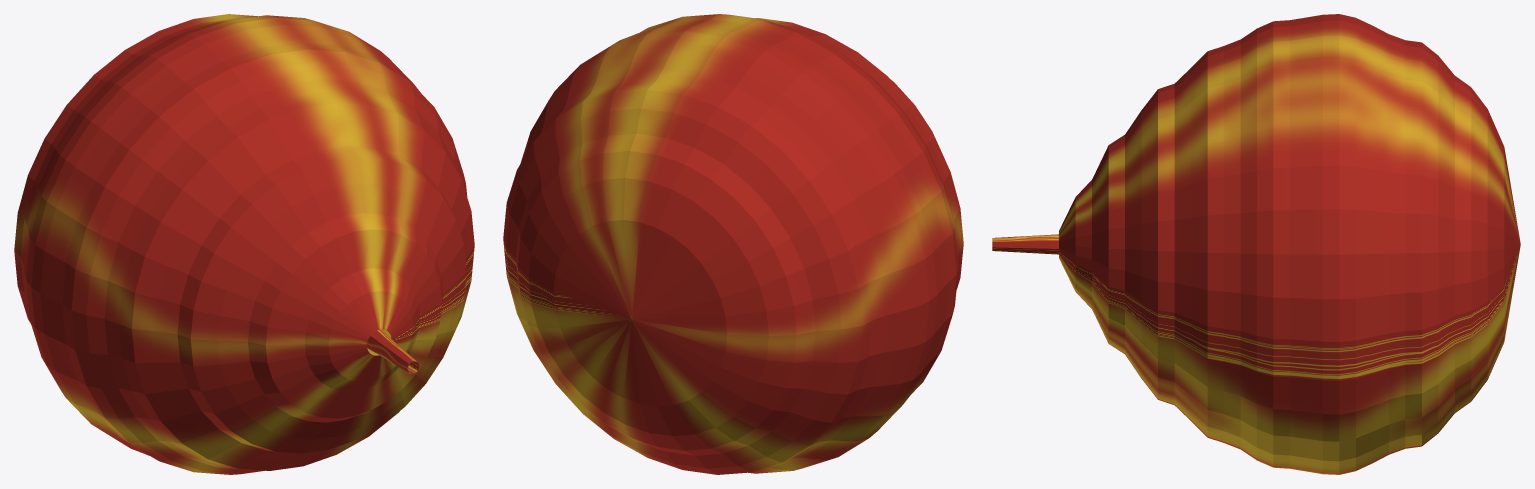
The model's file is apple_04_realistic.obj.
3 renders of one model, left to right at view 1: azimuth 30°, elevation 25°; view 2: azimuth 150°, elevation 25°; view 3: azimuth 270°, elevation 25°, orthographic. The views are drawn at different scales.
Bounding box in the file's own units: 2 × 2 × 2.29.
Materials: 1 (1 with a texture image).
